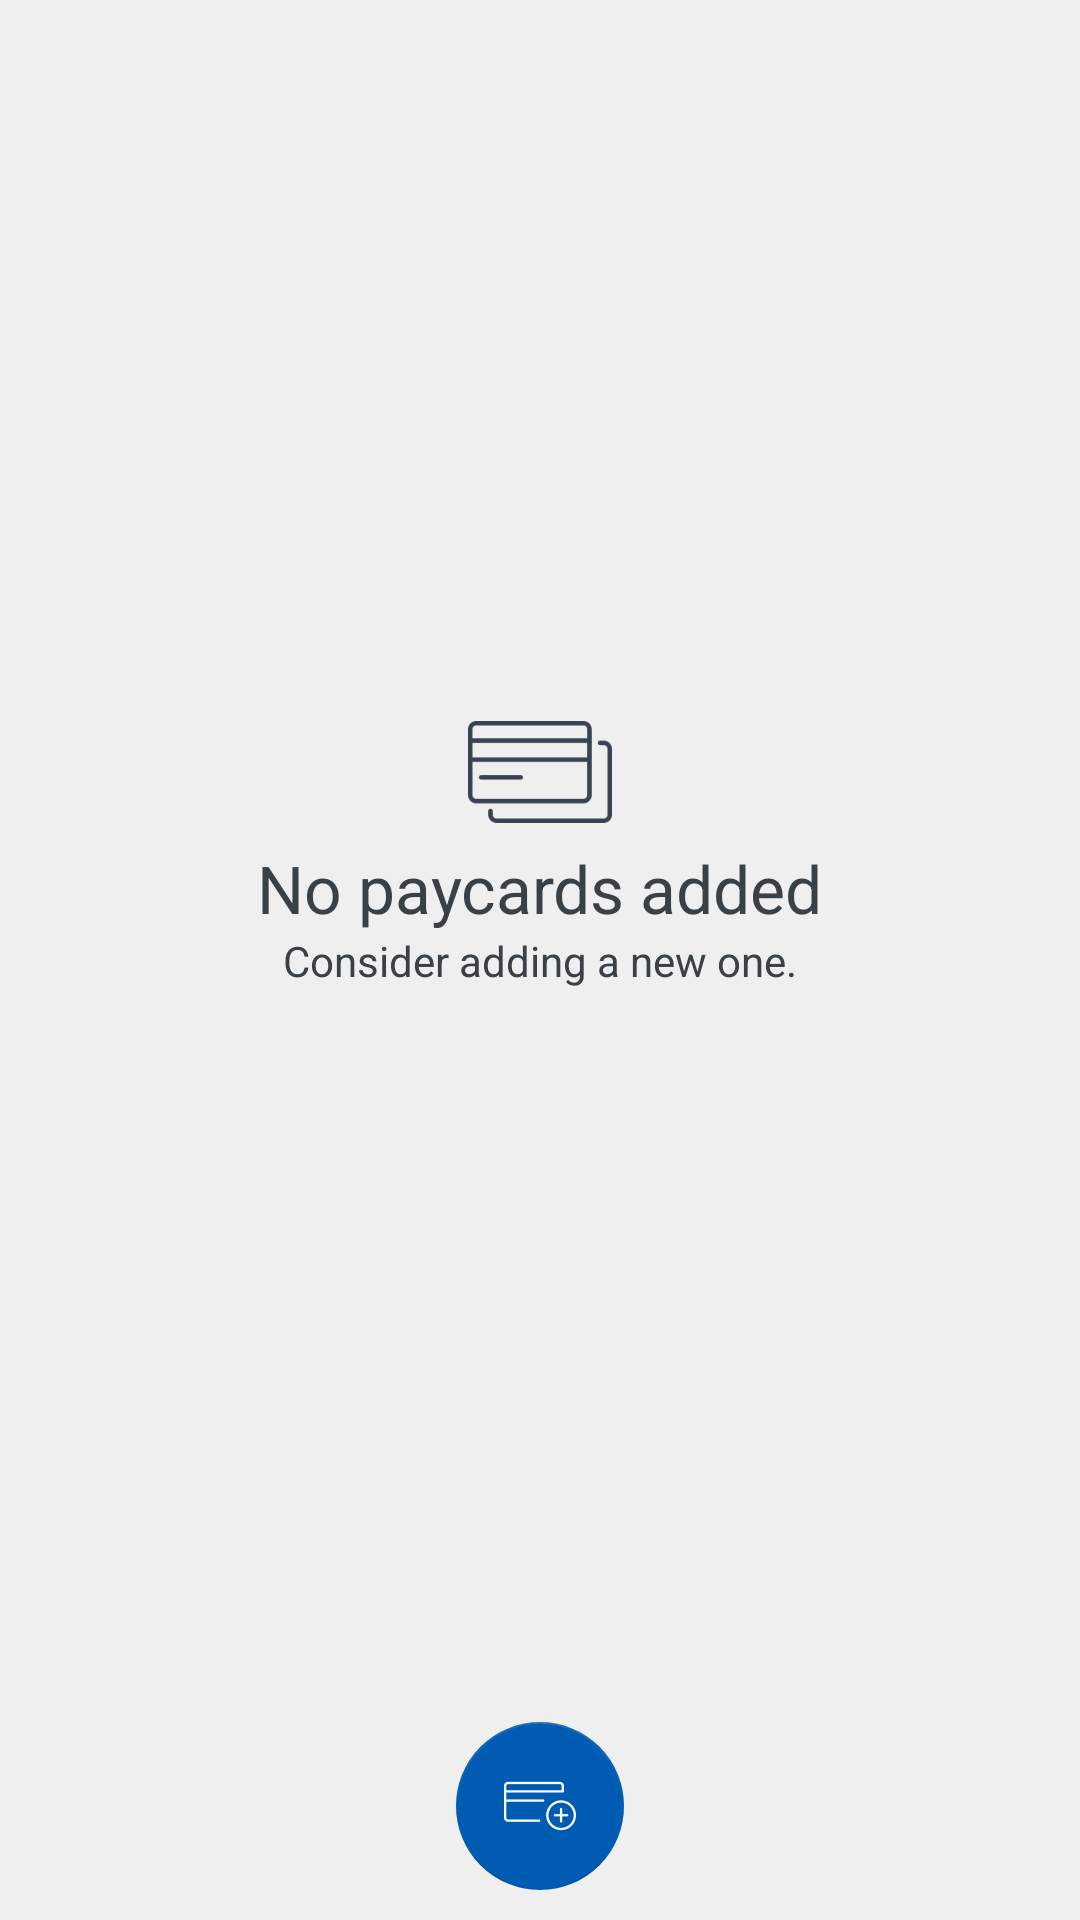

Where to tap for icons on this 1080px×1920px app screen, as point (x, y):
card positive: point (540, 1806)
